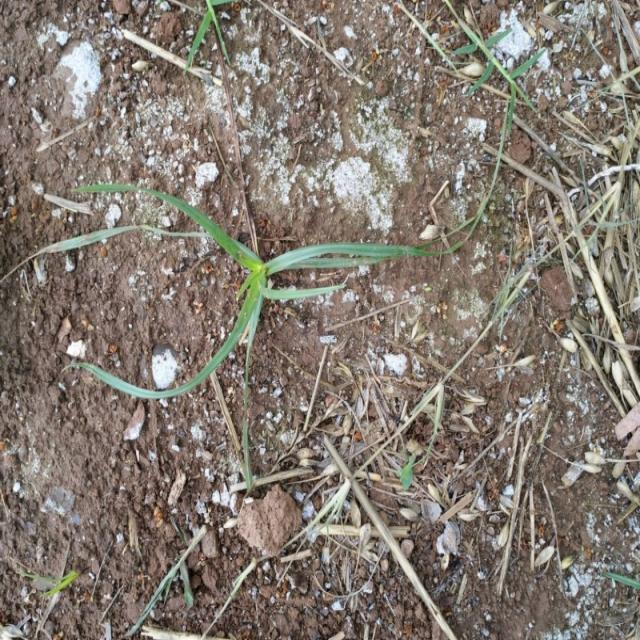sedge: (61, 154, 422, 418)
